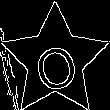O_N: (28, 30, 82, 92)
